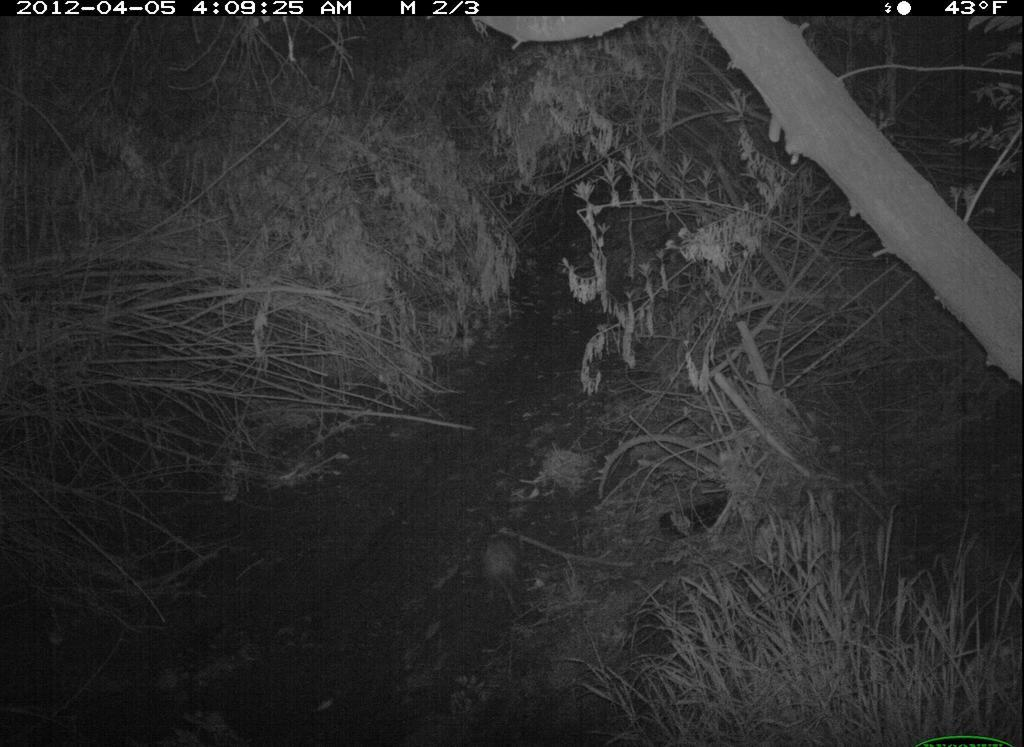opossum: (466, 529, 545, 637)
